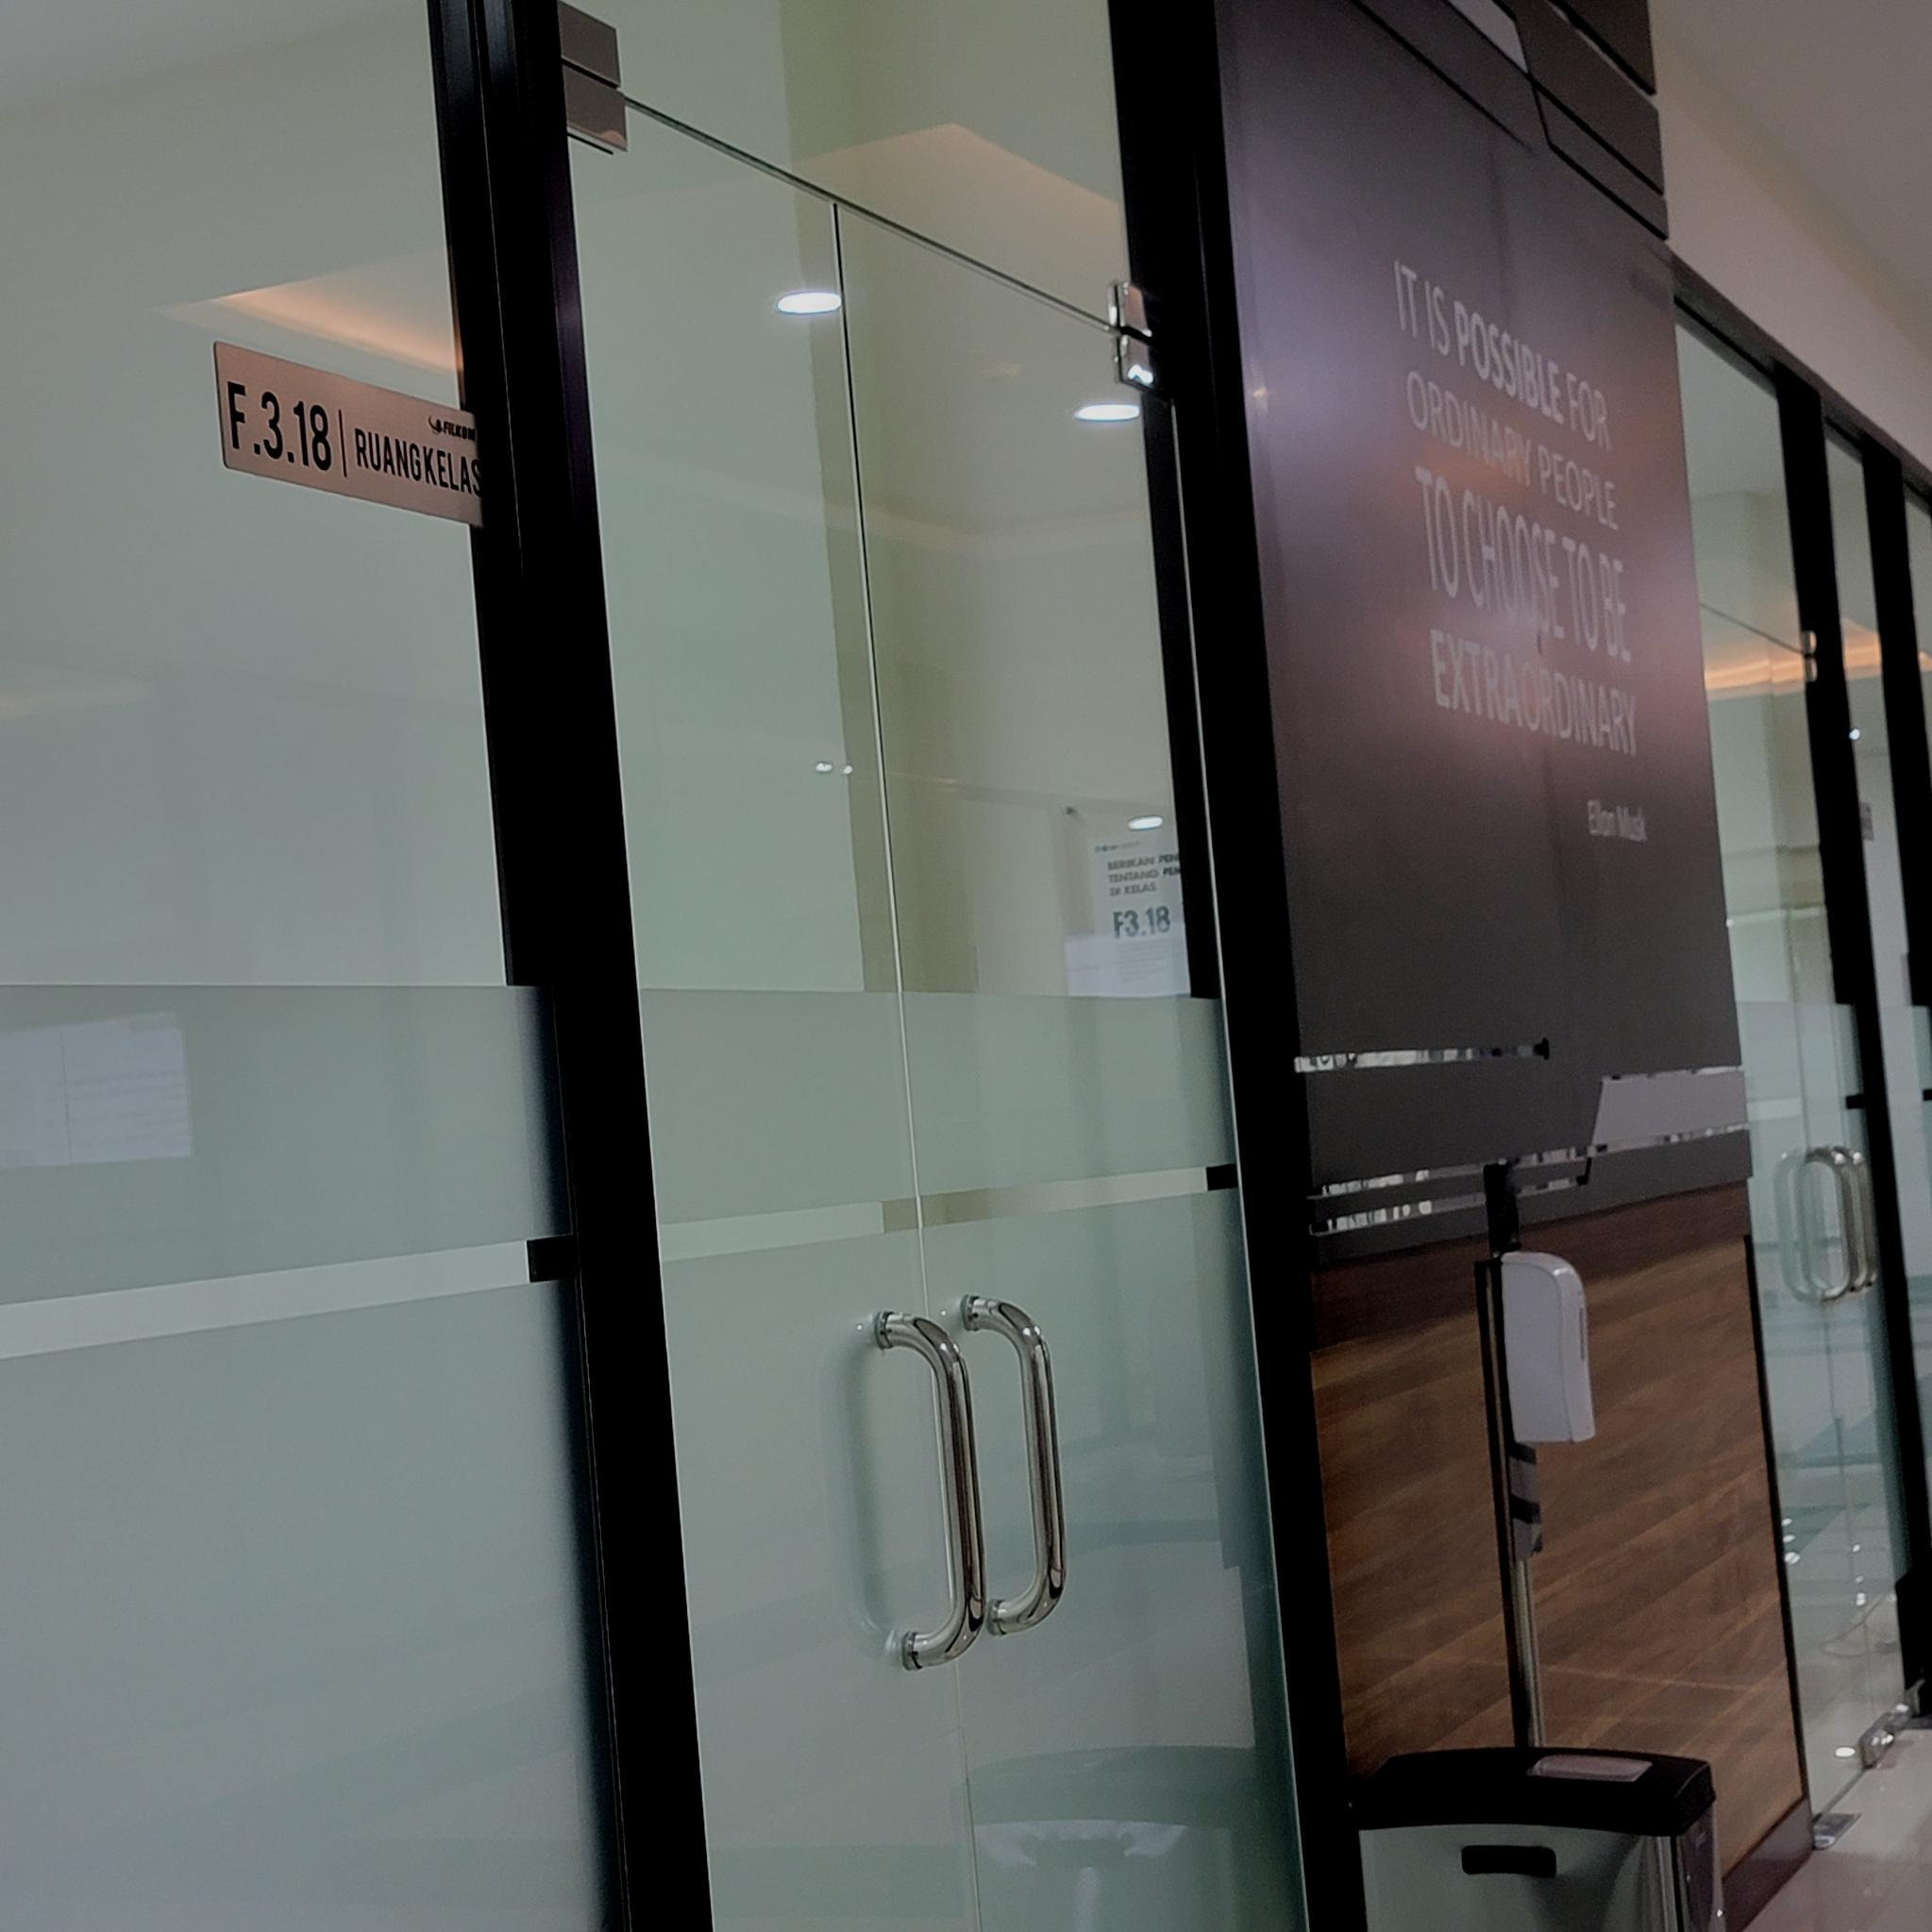plate: (214, 336, 494, 534)
